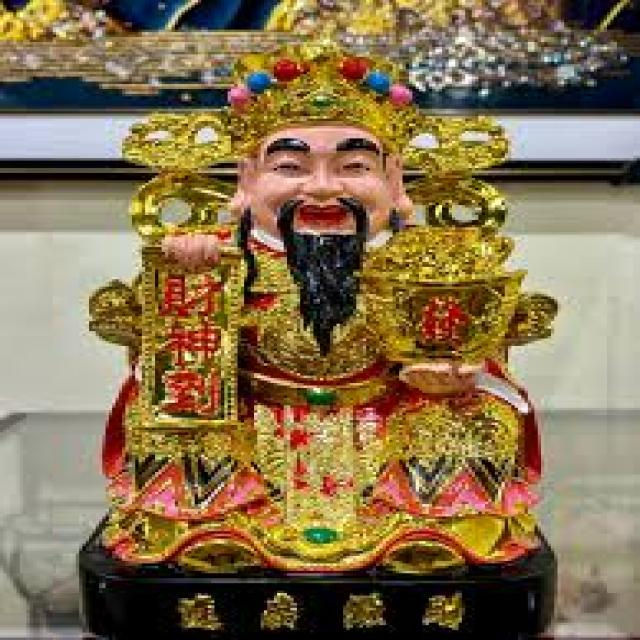Cai shen: (108, 39, 548, 552)
